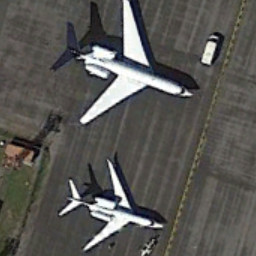Airplane: (52, 1, 199, 138), (62, 153, 171, 255)
